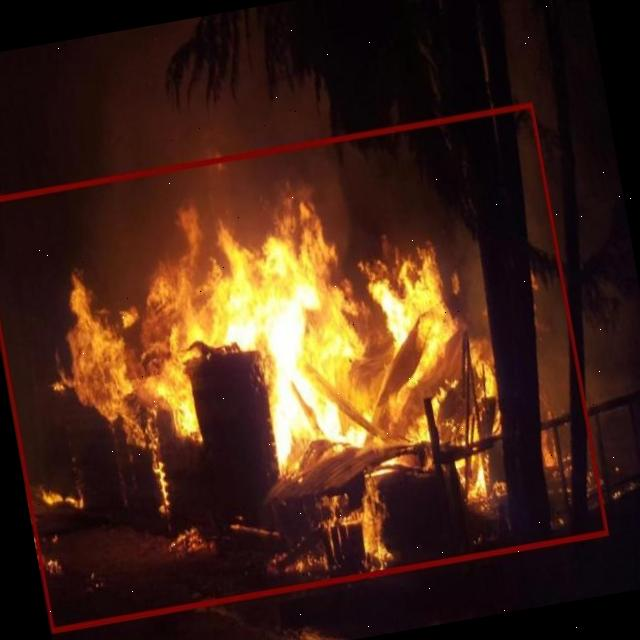fire: (0, 101, 607, 631)
